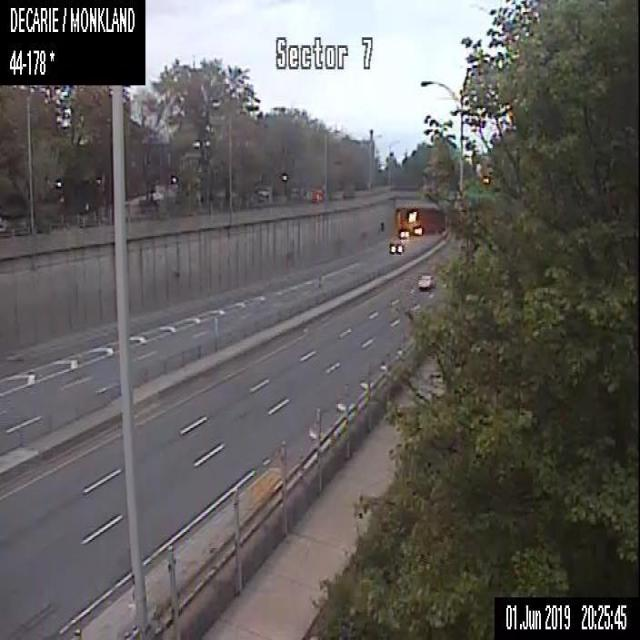vehicle: (416, 273, 434, 288), (388, 240, 404, 252), (413, 224, 422, 235), (399, 228, 408, 236)
